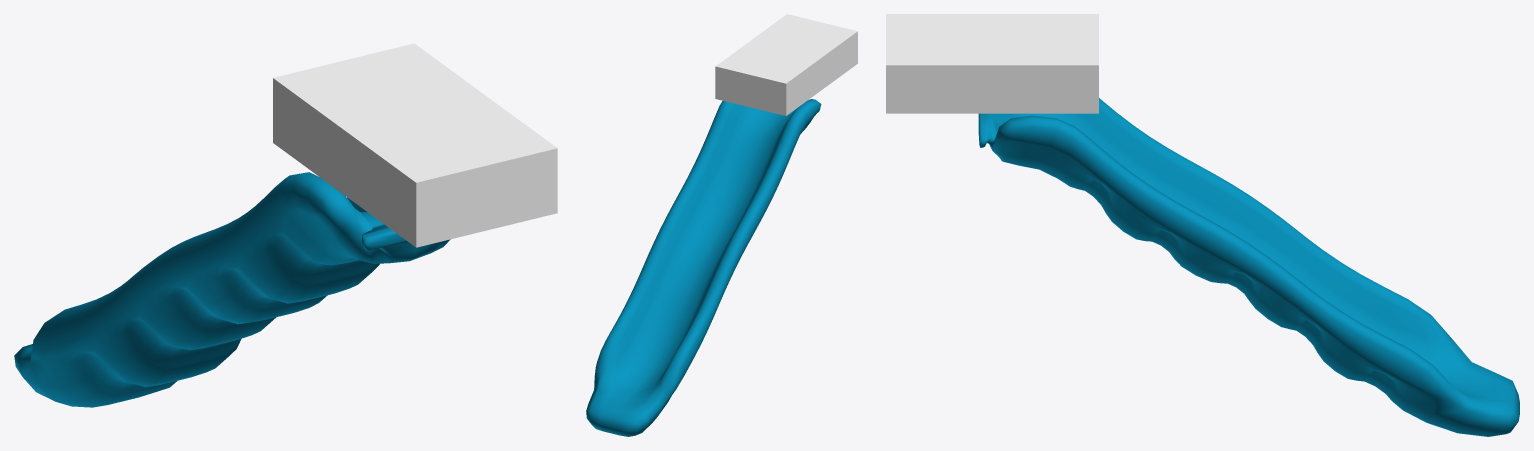
File: SWS-10.ae00999b.glb
3 views of the same model, side by side, from view 1: azimuth 30°, elevation 25°; view 2: azimuth 150°, elevation 25°; view 3: azimuth 270°, elevation 25° (orthographic). The views are drawn at different scales.
Parts seen in each view (by area): view 1: Plane036,_colorize_, joint,0,6; view 2: Plane036,_colorize_, joint,0,6; view 3: Plane036,_colorize_, joint,0,6.
Part boxes in pixels (x1,y1,x2,y2): Plane036,_colorize_: [14, 172, 450, 407]; joint,0,6: [273, 43, 557, 247]; Plane036,_colorize_: [586, 99, 821, 436]; joint,0,6: [715, 14, 857, 115]; Plane036,_colorize_: [978, 98, 1519, 436]; joint,0,6: [886, 14, 1098, 113].
Size of the model in its own units: 0.653 by 2 by 2.98.
